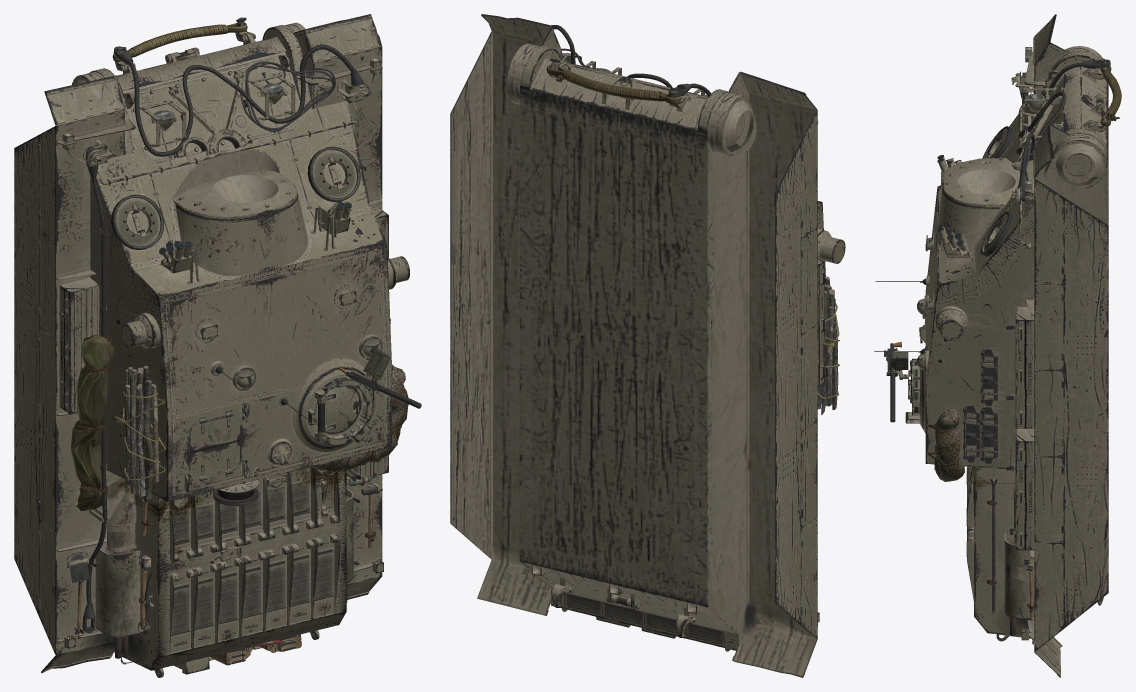
File: Hull.glb
The picture shows the model from 3 angles, left to right: view 1: azimuth 30°, elevation 25°; view 2: azimuth 150°, elevation 25°; view 3: azimuth 270°, elevation 25°; orthographic projection. The views are drawn at different scales.
Parts seen in each view (by area): view 1: set_0_group_0, set_0_group_1; view 2: set_0_group_0, set_0_group_1; view 3: set_0_group_0, set_0_group_1.
Boxes of the visible parts, x1,y1,x2,y2 form: set_0_group_0: (14, 14, 409, 677); set_0_group_1: (59, 22, 421, 674); set_0_group_0: (450, 14, 845, 677); set_0_group_1: (546, 48, 839, 415); set_0_group_0: (874, 14, 1110, 677); set_0_group_1: (884, 66, 1121, 617).
Bounding box in the file's own units: 3.79 × 6.55 × 2.77.
Materials: 2 (2 with a texture image).
